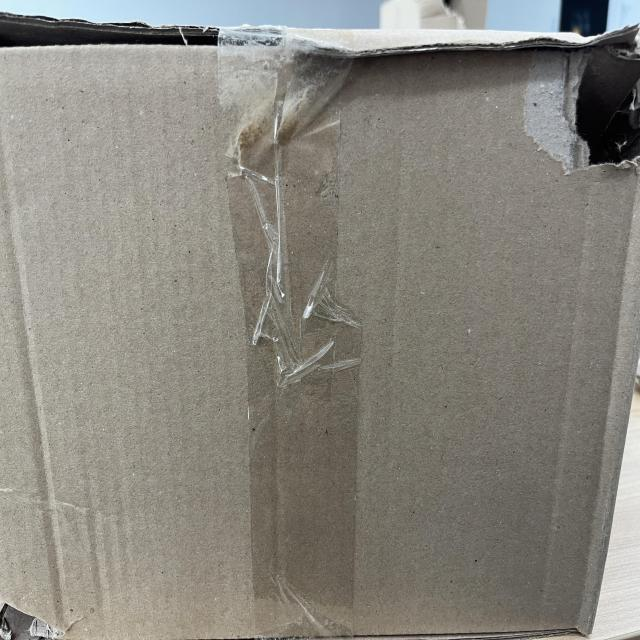damaged: (552, 37, 640, 171), (0, 600, 57, 640)
